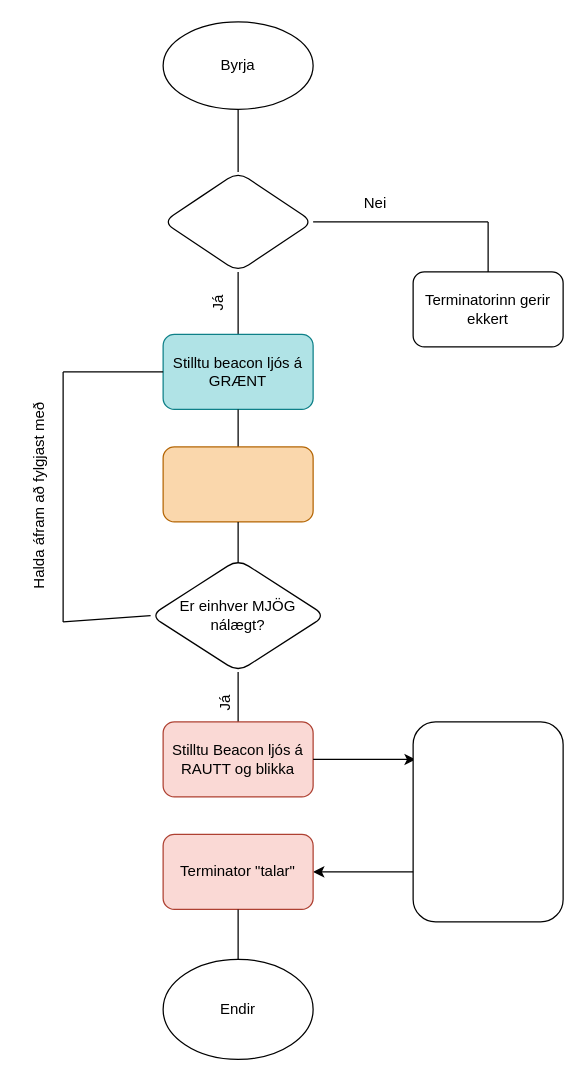
Some shapes in this 586 by 1081 pixel diagram are drawn without their labels. Here are the shapes that lost their labels. From the top down, the centre of each, then its label:
At point (237, 221): "er einhver í skynjunarsvæði?".
At point (237, 484): "Stilltu beacon ljós á APPLESÍNUGULT".
At point (487, 821): "Spilaðu viðvörunarhljóð úr hátalara (Beacon og Terminator)".
